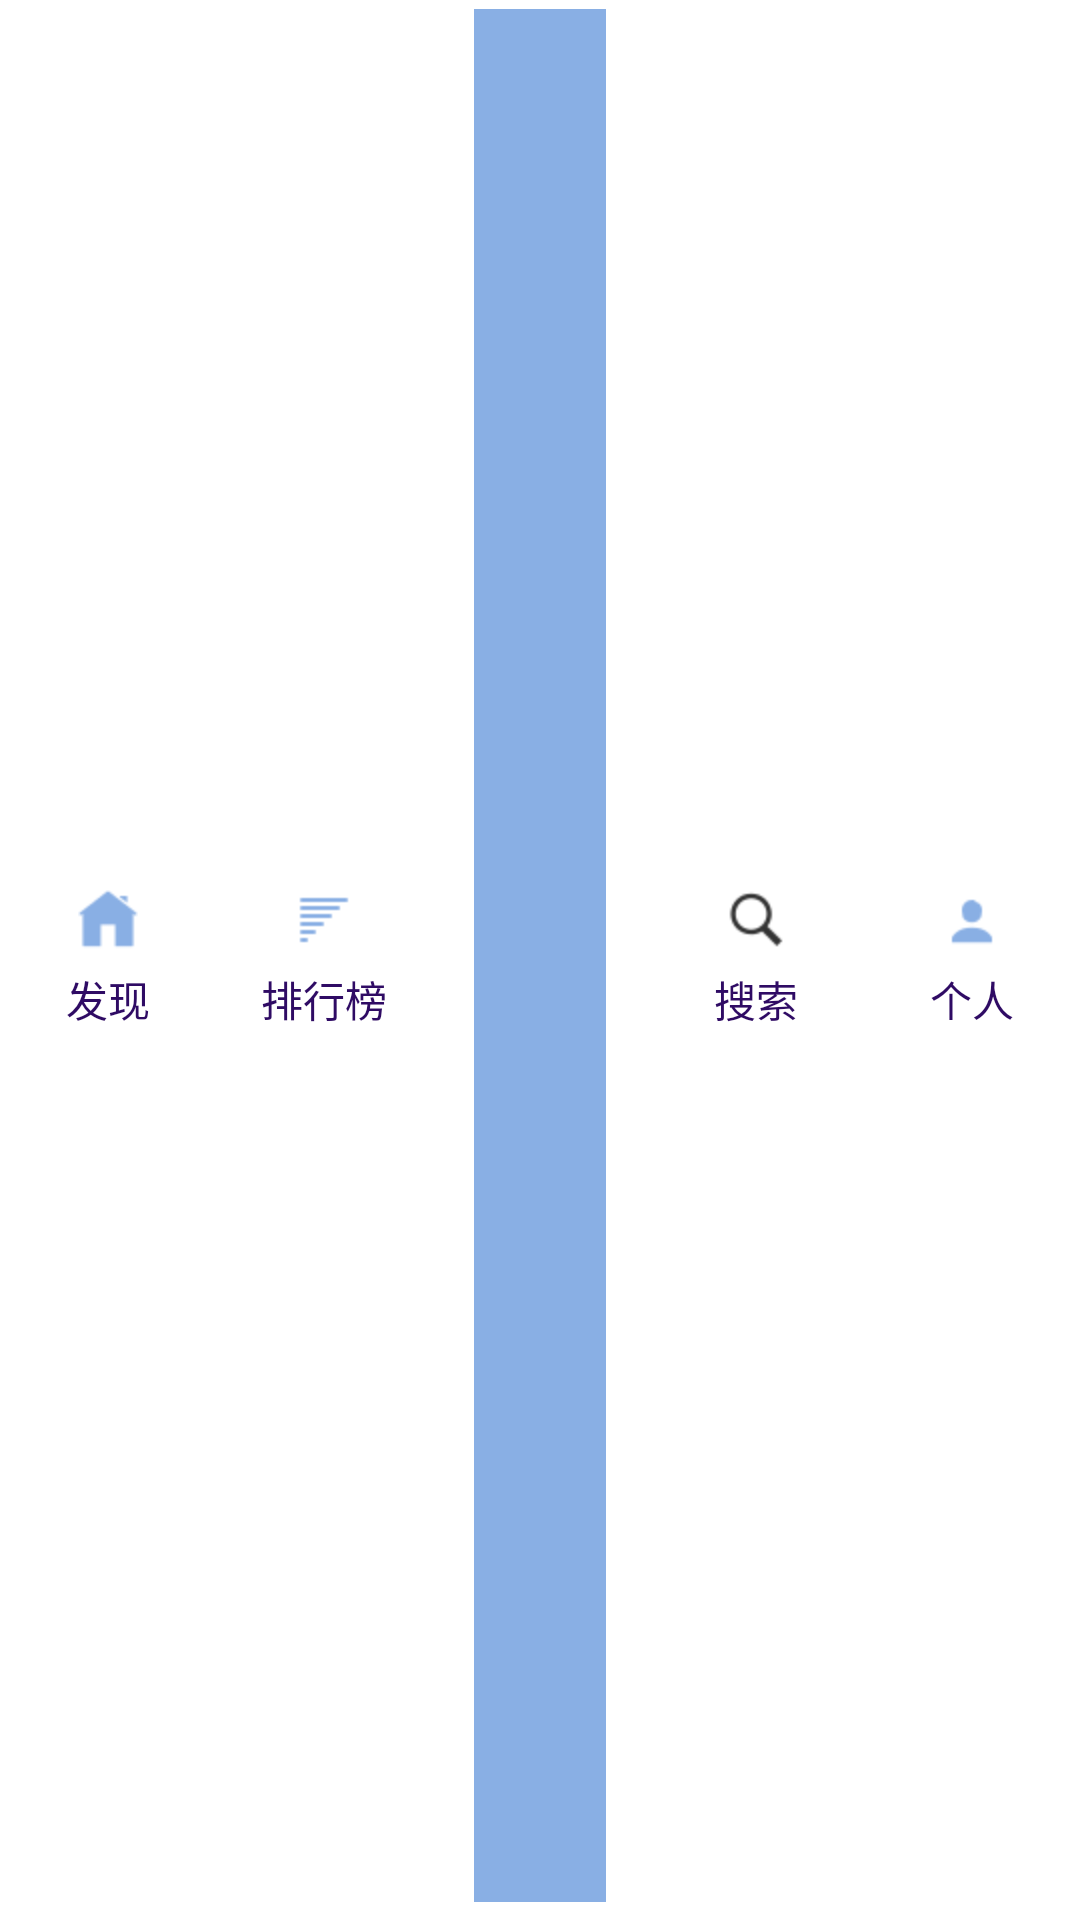

Screen size 1080*1920. Icon name, then its center in pixels as point (x, y):
customer: point (972, 921)
home: point (108, 919)
sorting: point (324, 920)
